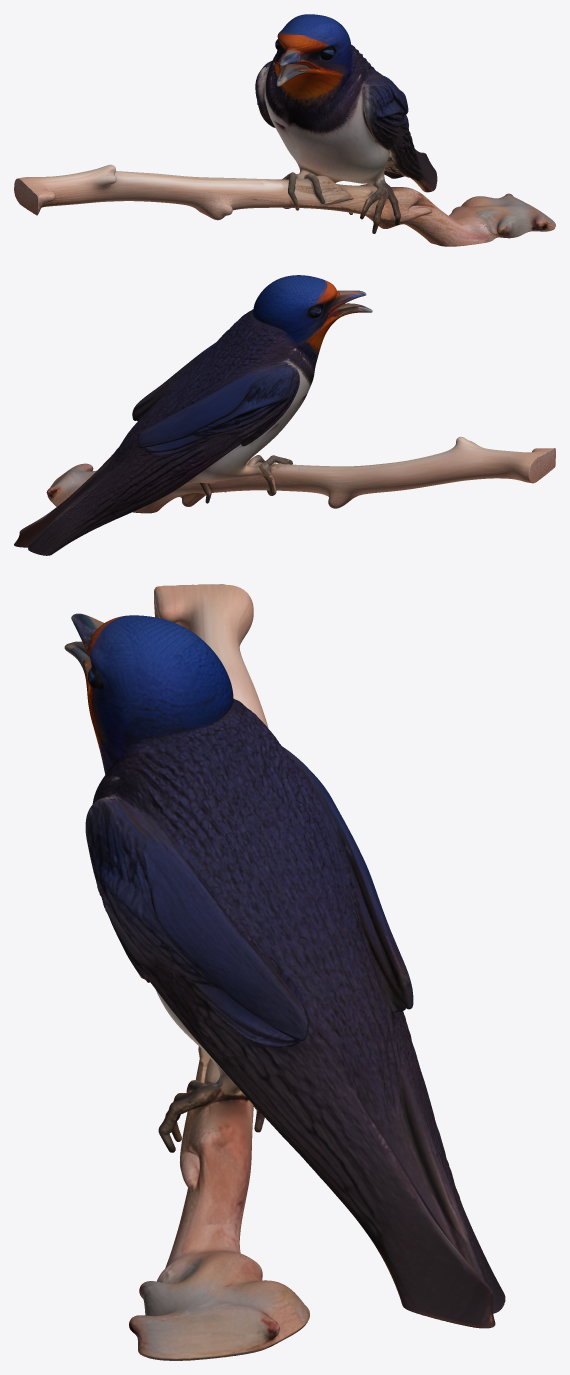
Rendered from nm__swallow.glb.
The picture shows the model from 3 angles, top to bottom: view 1: azimuth 30°, elevation 25°; view 2: azimuth 150°, elevation 25°; view 3: azimuth 270°, elevation 25°; orthographic projection. The views are drawn at different scales.
Parts seen in each view (by area): view 1: Object_2, Object_3; view 2: Object_2, Object_3; view 3: Object_2, Object_3.
Part boxes in pixels (box(x1,y1,x2,y2)): Object_2: box(14, 14, 555, 246); Object_3: box(153, 15, 437, 232); Object_2: box(46, 275, 555, 513); Object_3: box(14, 280, 346, 555); Object_2: box(64, 584, 413, 1360); Object_3: box(80, 626, 505, 1328).
Bounding box in the file's own units: 1.02 × 0.5021 × 0.396.
Materials: 1 (1 with a texture image).
